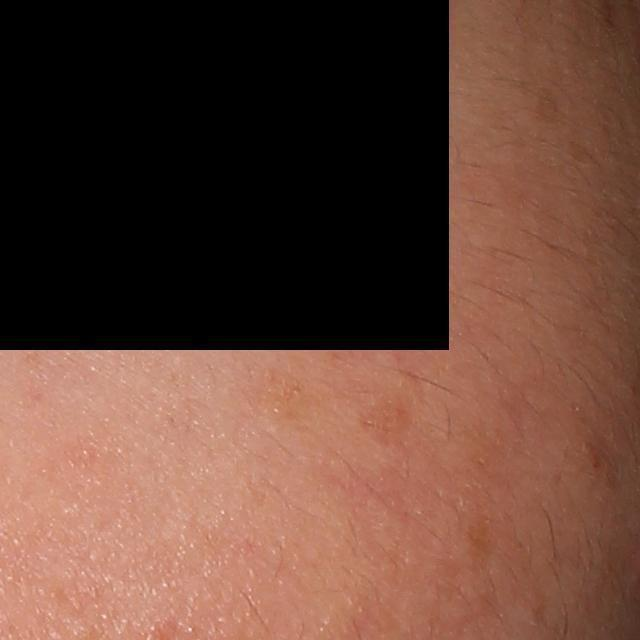melasma: (355, 264, 444, 372), (247, 365, 334, 429)
